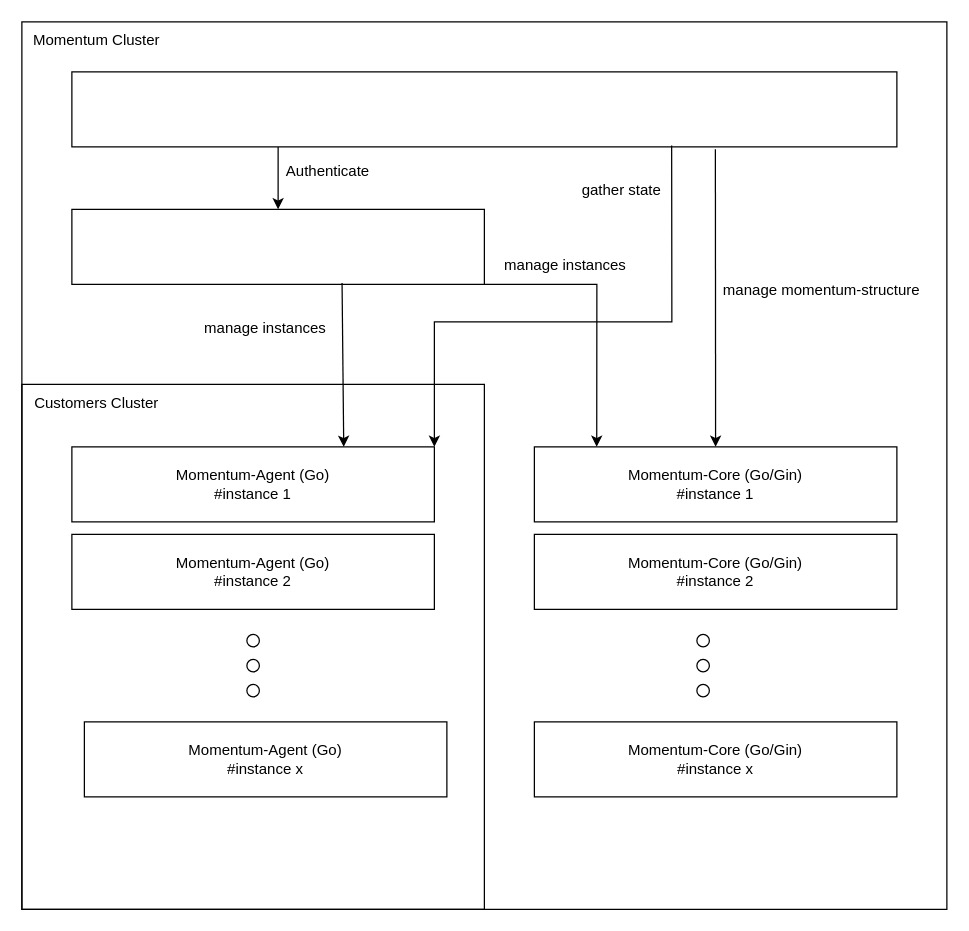
This 969x931 diagram has some shape labels left out. Each missing label, with the box of its shape:
Momentum-Backend (Pocketbase): (71, 208, 484, 284)
UI (Svelte): (71, 71, 897, 147)
